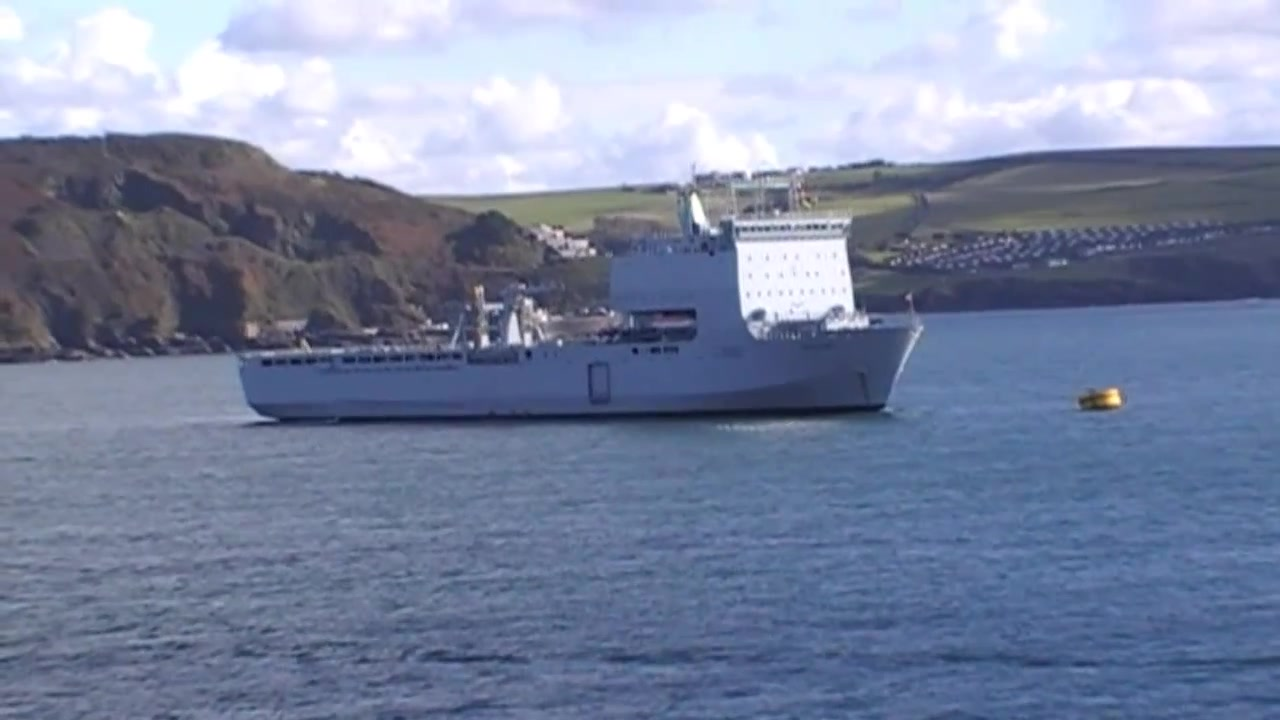boat: (232, 168, 928, 425)
